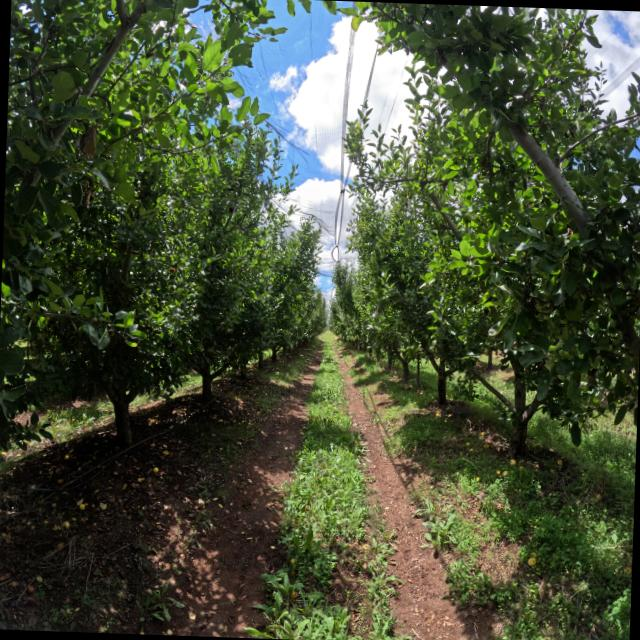-FireBlight-: (78, 119, 100, 161), (82, 181, 93, 204)
